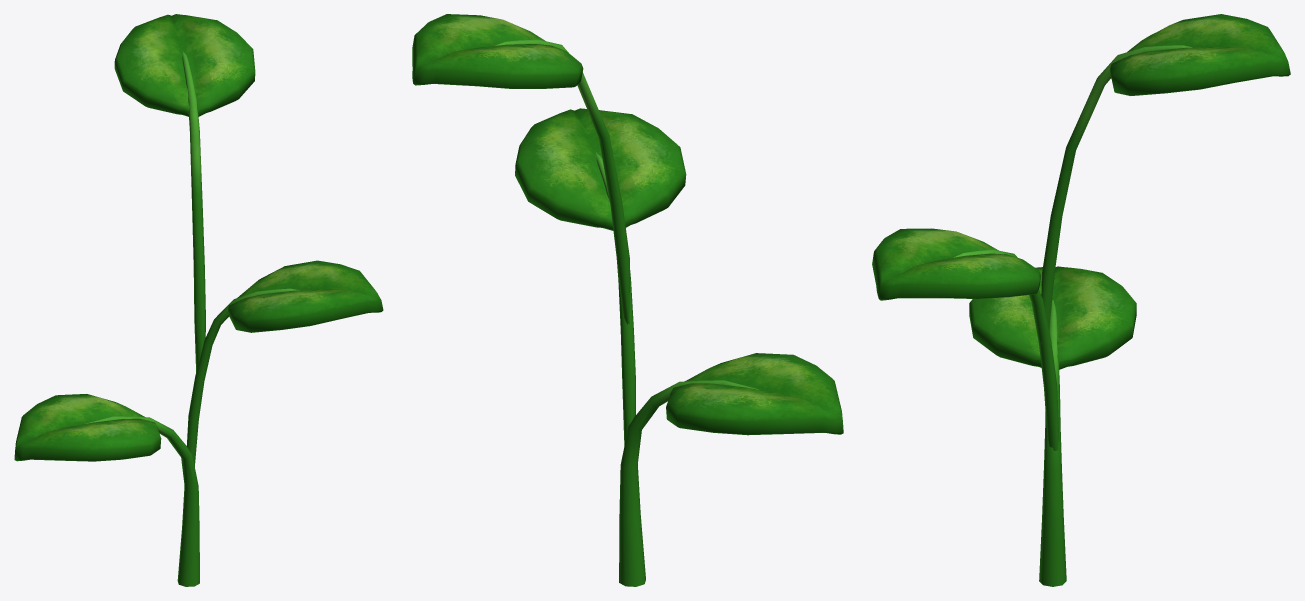
The model's file is Plantinha2.fbx.
The picture shows the model from 3 angles, left to right: view 1: azimuth 30°, elevation 25°; view 2: azimuth 150°, elevation 25°; view 3: azimuth 270°, elevation 25°; orthographic projection. The views are drawn at different scales.
Parts seen in each view (by area): view 1: Folhas2; view 2: Folhas2; view 3: Folhas2.
Part boxes in pixels (box(x1,y1,x2,y2)): Folhas2: box(14, 14, 383, 586); Folhas2: box(412, 14, 843, 586); Folhas2: box(872, 14, 1290, 586).
Bounding box in the file's own units: 260 × 396 × 259.
